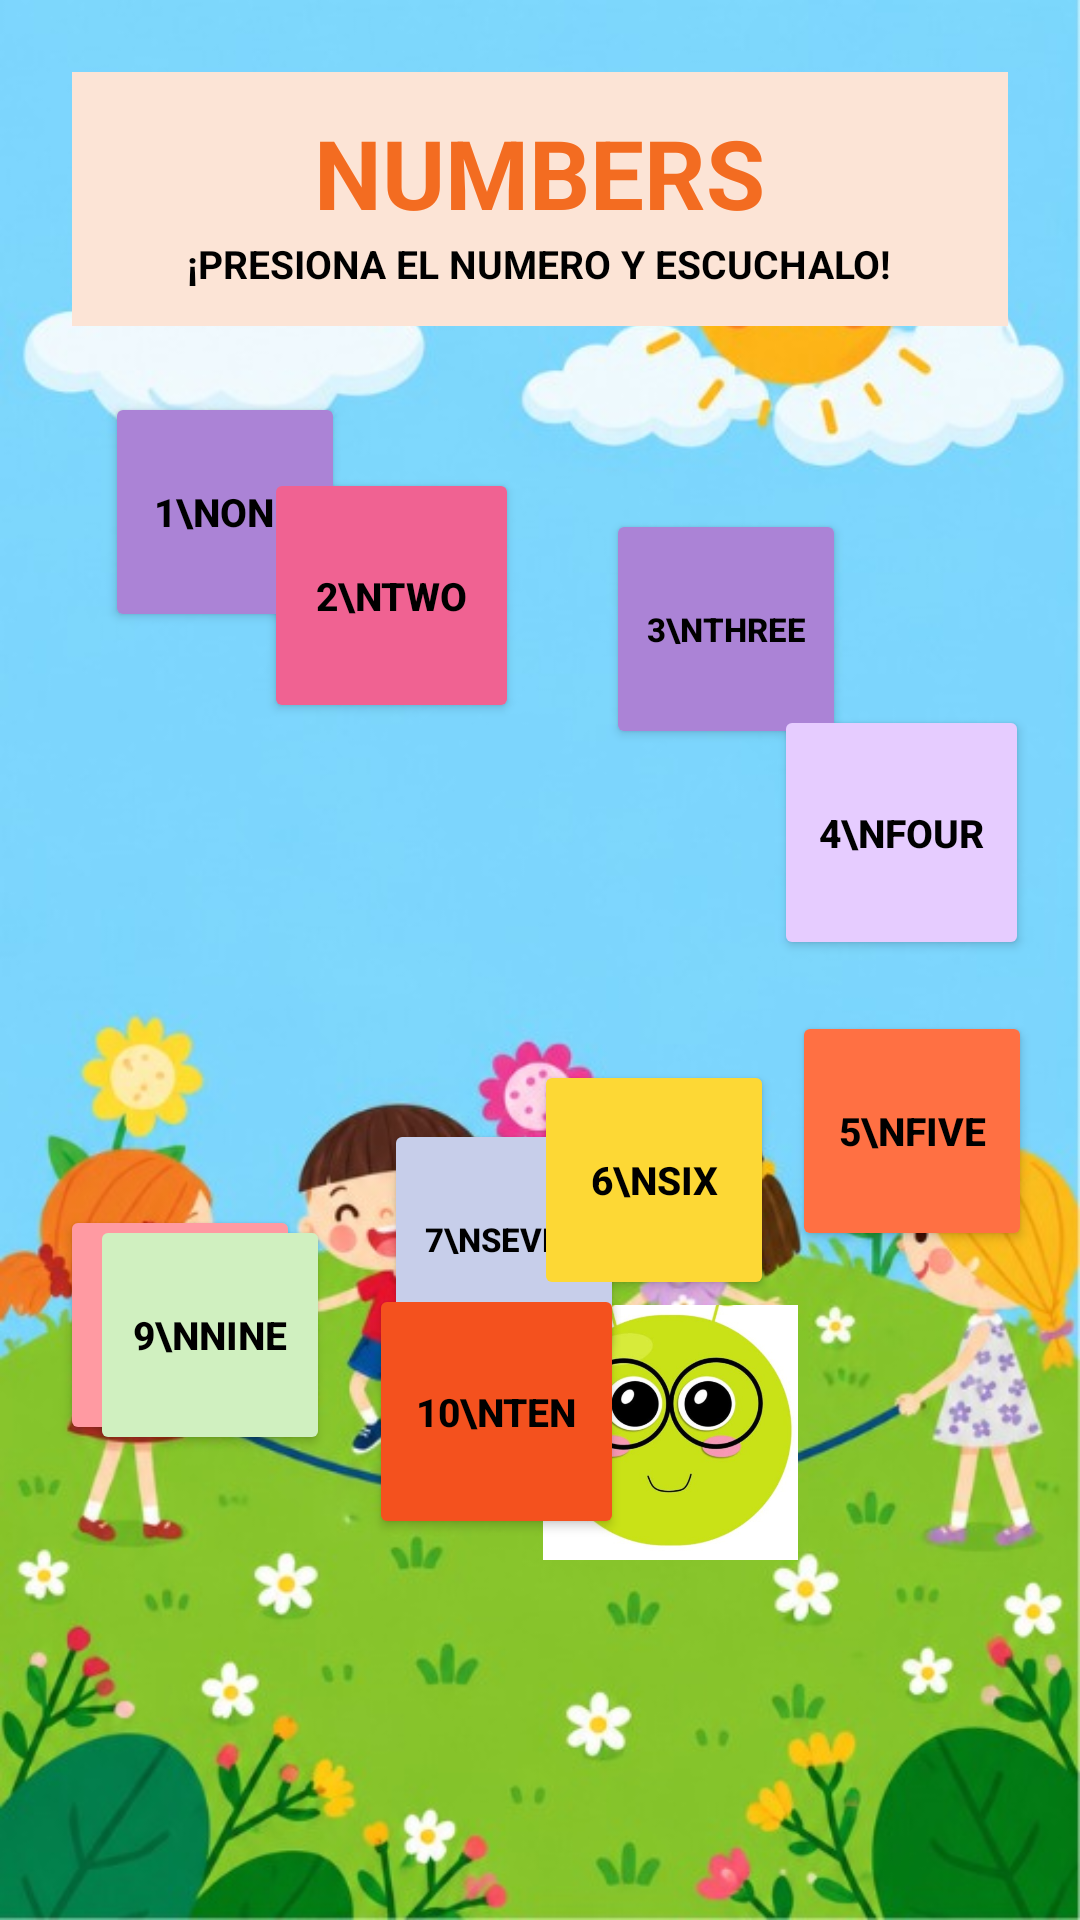

Screen size 1080 x 1920. Icon name, then its center in pixels as (x=x, y=y):
gusano: (x=670, y=1432)
